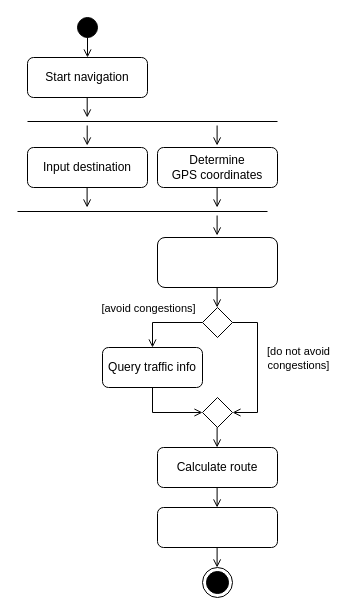
This 347x615 diagram has some shape labels left out. Here are the shapes that lost their labels. From the top down, the centre of each, then its label:
At point (217, 262): "Ask for desire to calculate the route dynamically".
At point (217, 527): "Output route".
